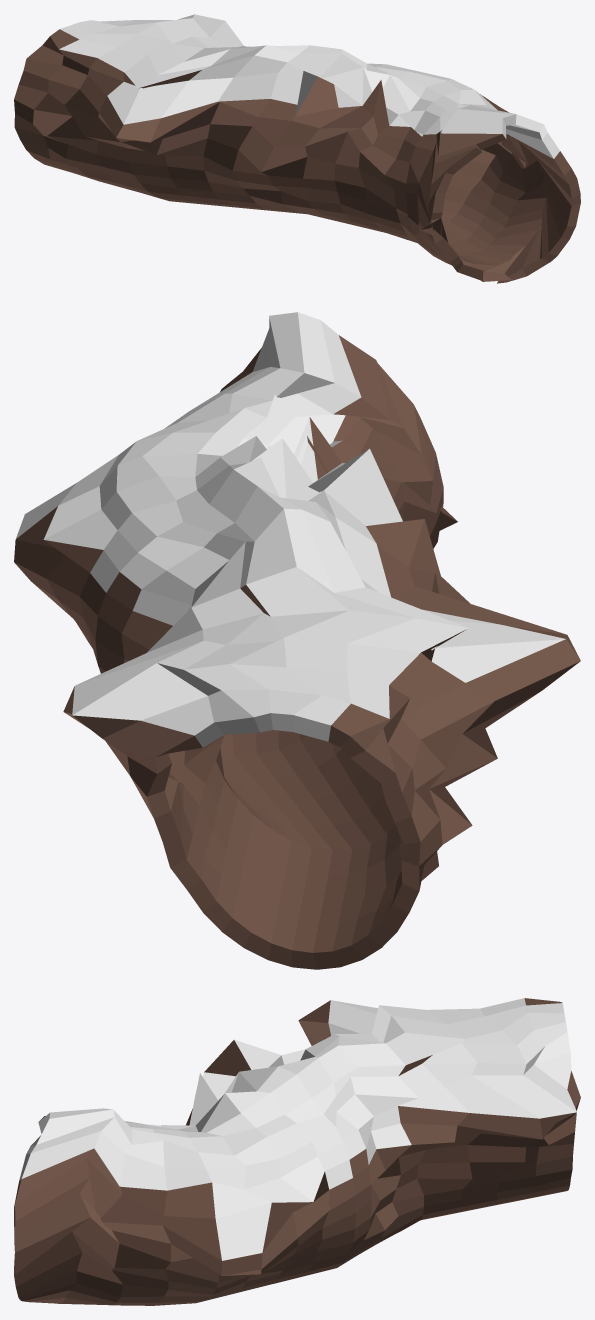
The model's file is LowPolyLogSnow.fbx.
3 renders of one model, top to bottom at view 1: azimuth 30°, elevation 25°; view 2: azimuth 150°, elevation 25°; view 3: azimuth 270°, elevation 25°, orthographic. The views are drawn at different scales.
Visible parts, largest first — view 1: Low_Poly_Log; view 2: Low_Poly_Log; view 3: Low_Poly_Log.
Boxes of the visible parts, x1,y1,x2,y2 form: Low_Poly_Log: [14, 14, 580, 283]; Low_Poly_Log: [14, 312, 580, 969]; Low_Poly_Log: [14, 998, 580, 1305].
Bounding box in the file's own units: 536 × 238 × 609.
